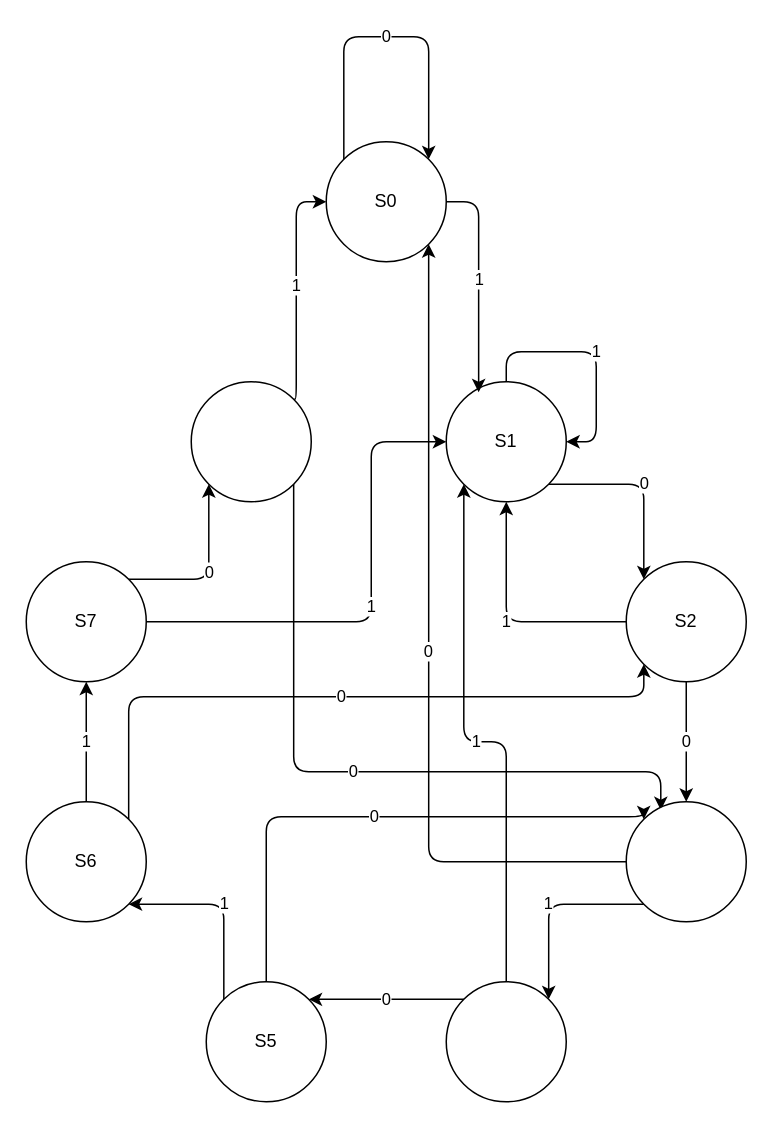
The diagram is 773 pixels wide and 1128 high, and some of its shapes have lost their labels. The box of each missing label's shape, as (x1, y1, x2, y2) in pixels:
S3: (625, 800, 746, 922)
S4: (445, 980, 566, 1102)
S8 / 1: (190, 380, 311, 502)
